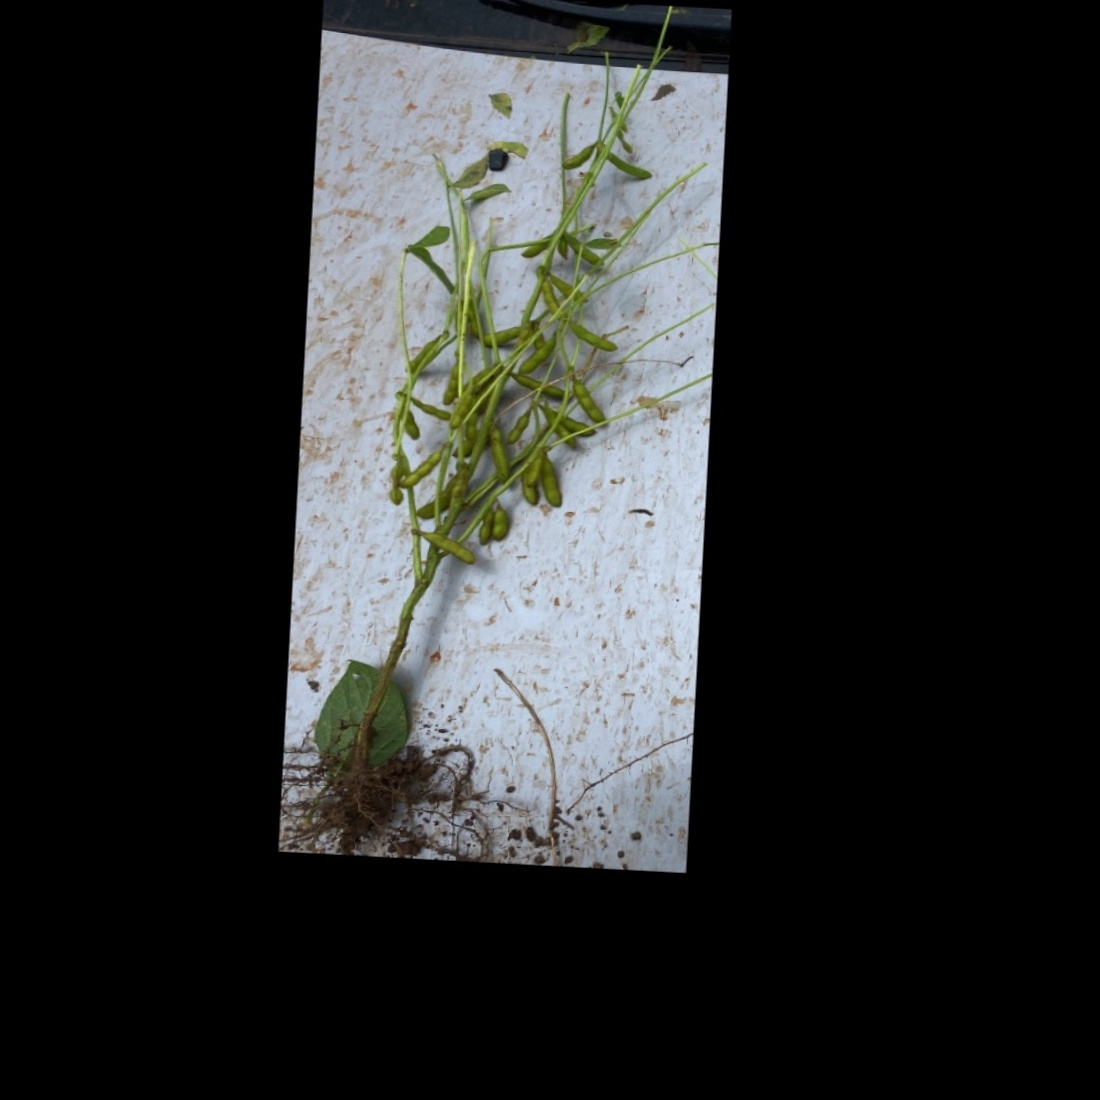pod: (420, 526, 477, 566), (401, 444, 448, 492), (571, 382, 612, 428), (518, 336, 557, 376), (568, 321, 618, 351), (608, 152, 655, 182), (487, 429, 512, 484), (540, 458, 565, 509), (562, 138, 597, 169), (507, 408, 533, 446), (413, 400, 452, 421), (387, 463, 406, 507), (493, 505, 509, 543), (477, 507, 493, 547), (405, 414, 424, 442), (616, 132, 634, 155)
soy: (306, 42, 670, 829)
